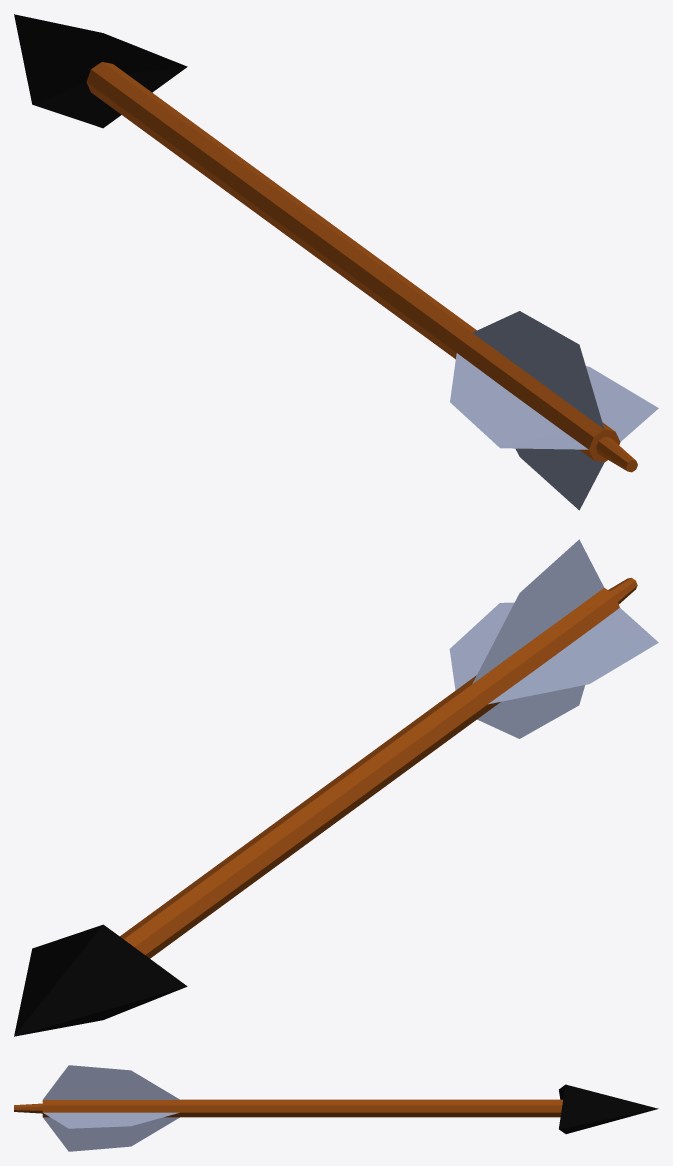
File: Arrow.glb
The picture shows the model from 3 angles, top to bottom: view 1: azimuth 30°, elevation 25°; view 2: azimuth 150°, elevation 25°; view 3: azimuth 270°, elevation 25°; orthographic projection. The views are drawn at different scales.
Parts seen in each view (by area): view 1: Plane; view 2: Plane; view 3: Plane.
Boxes of the visible parts, <box> form: Plane: <box>14,14,658,510</box>; Plane: <box>14,539,658,1036</box>; Plane: <box>14,1065,658,1151</box>.
Bounding box in the file's own units: 0.2876 × 0.2871 × 1.94.
Materials: 1 (1 with a texture image).
